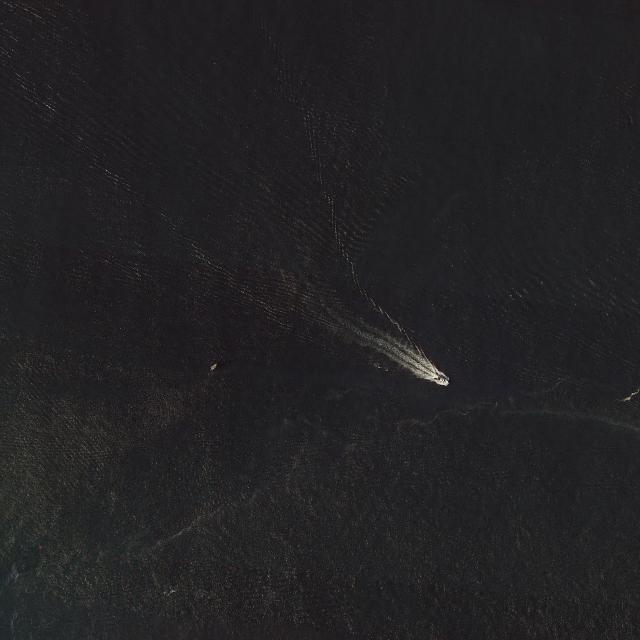ship: (437, 375, 450, 385), (210, 362, 218, 370)
